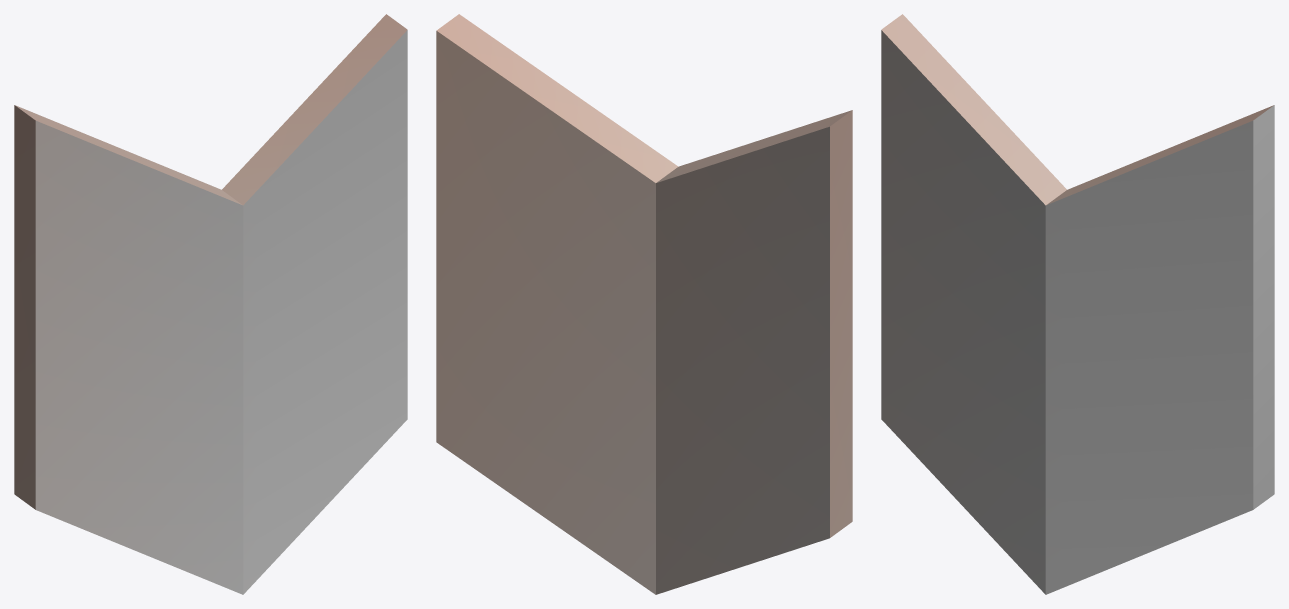
Rendered from ArmorLvl5.fbx.
The picture shows the model from 3 angles, left to right: view 1: azimuth 30°, elevation 25°; view 2: azimuth 150°, elevation 25°; view 3: azimuth 330°, elevation 25°; orthographic projection. The views are drawn at different scales.
Visible parts, largest first — view 1: armor_lvl5; view 2: armor_lvl5; view 3: armor_lvl5.
Boxes of the visible parts, x1,y1,x2,y2 form: armor_lvl5: (14, 14, 407, 594); armor_lvl5: (436, 14, 852, 594); armor_lvl5: (881, 14, 1274, 594).
Bounding box in the file's own units: 1.4 × 1.81 × 0.2794.
